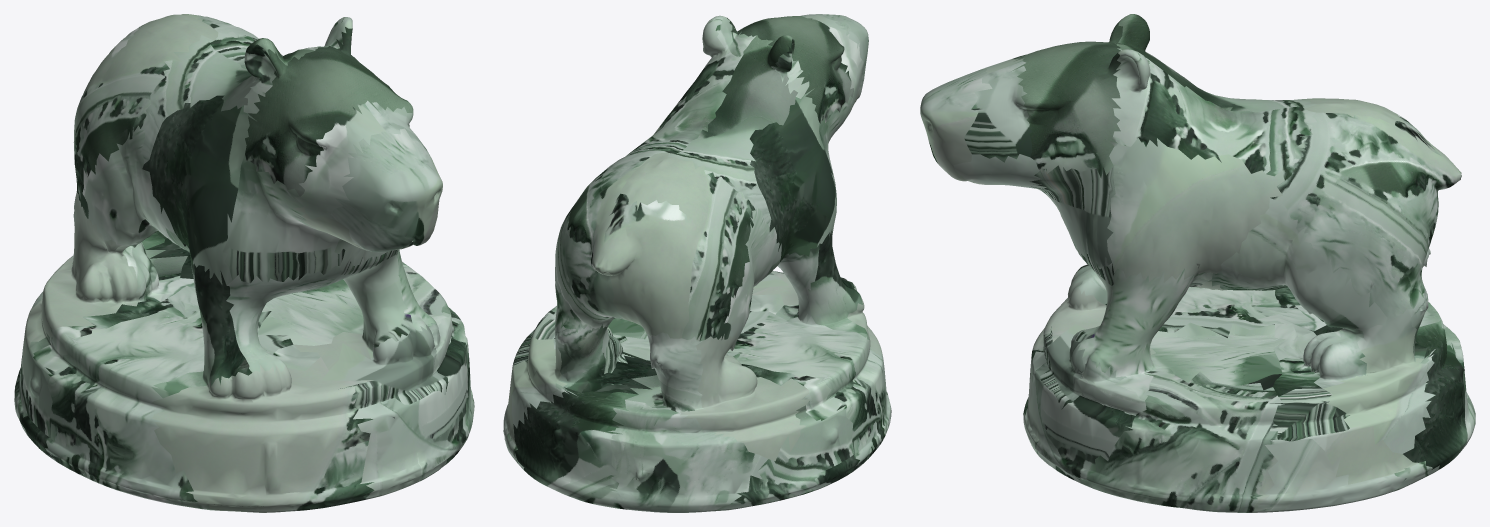
Rendered from silver_t.fbx.
3 views of the same model, side by side, from view 1: azimuth 30°, elevation 25°; view 2: azimuth 150°, elevation 25°; view 3: azimuth 270°, elevation 25° (orthographic). The views are drawn at different scales.
Visible parts, largest first — view 1: Mesh_0; view 2: Mesh_0; view 3: Mesh_0.
Boxes of the visible parts, x1,y1,x2,y2 form: Mesh_0: [14, 14, 474, 512]; Mesh_0: [503, 14, 891, 512]; Mesh_0: [920, 14, 1475, 512].
Size of the model in its own units: 148 by 158 by 200.
